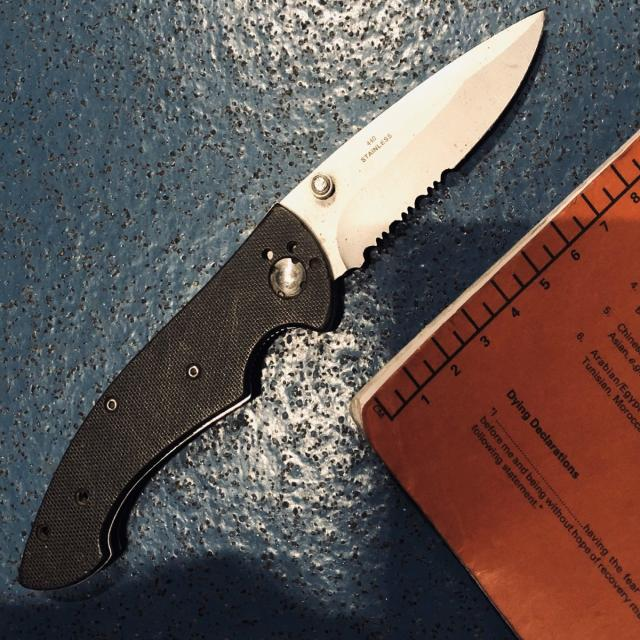Sharp-Object: (24, 10, 552, 598)
